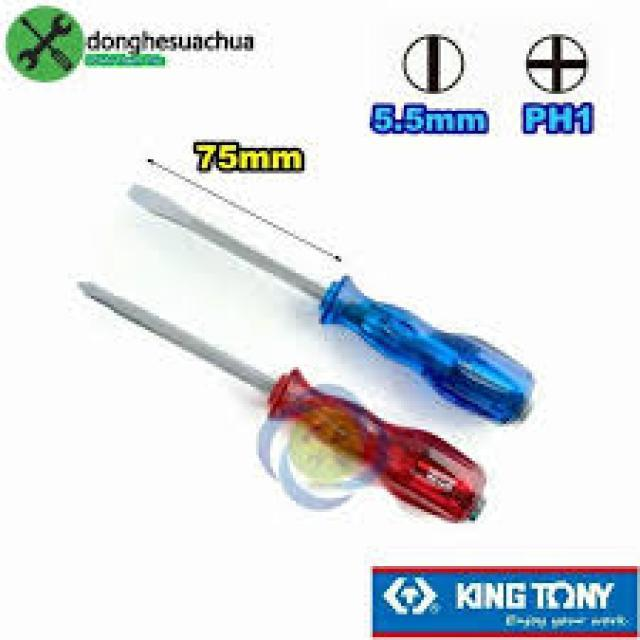screwdriver: (117, 176, 540, 427), (74, 280, 492, 528)
